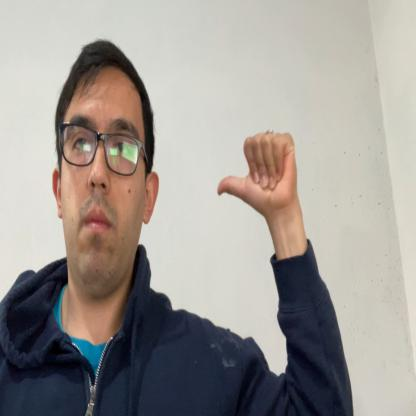A: (217, 127, 297, 214)
